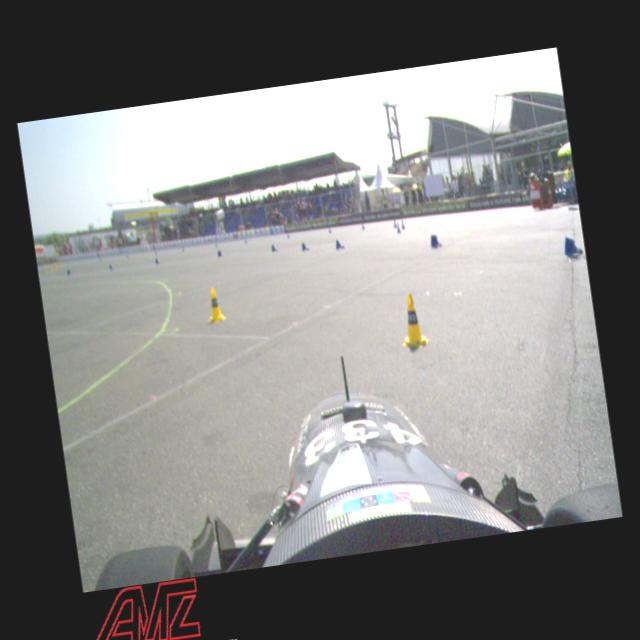blue_cone: (561, 232, 584, 258), (428, 232, 442, 250), (334, 238, 346, 251), (300, 242, 310, 252), (400, 219, 406, 230), (396, 222, 402, 233), (392, 218, 398, 228), (271, 244, 278, 252), (108, 263, 115, 270)
yellow_cone: (397, 292, 429, 349), (203, 284, 226, 324)
